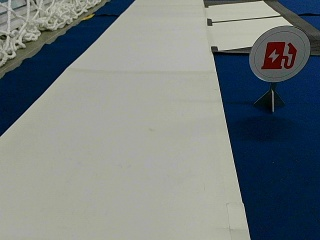battery: (249, 25, 310, 83)
